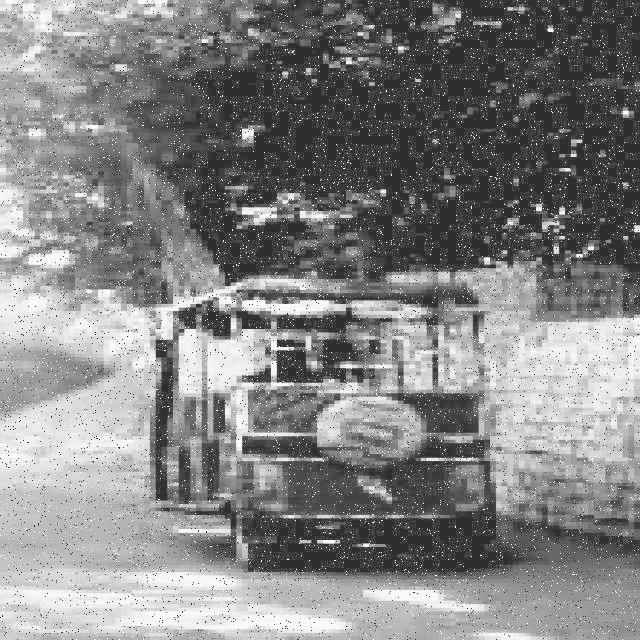Toto: (150, 262, 523, 588)
